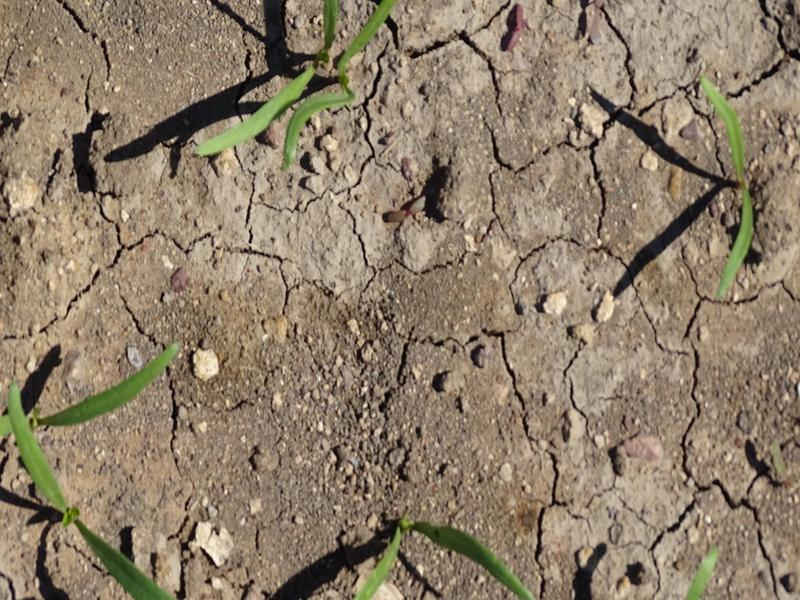Espinaca: (8, 340, 188, 600), (196, 5, 398, 161), (343, 510, 540, 597), (703, 78, 757, 298)
